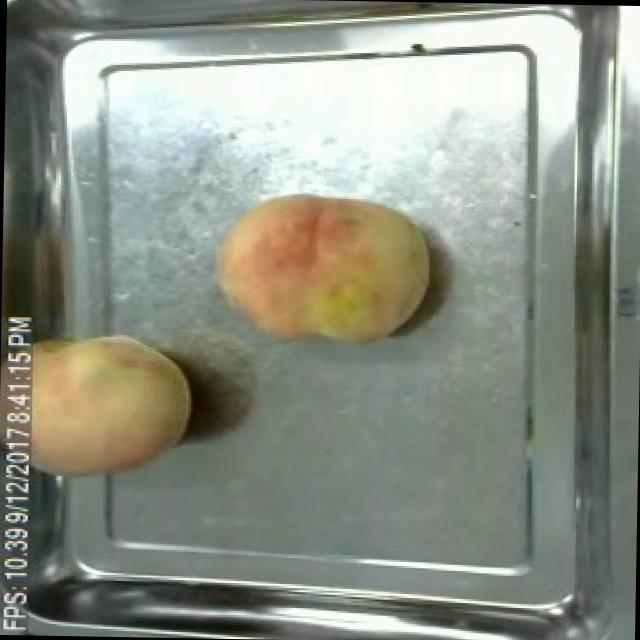Fruit: (206, 182, 437, 356), (25, 321, 198, 486)
